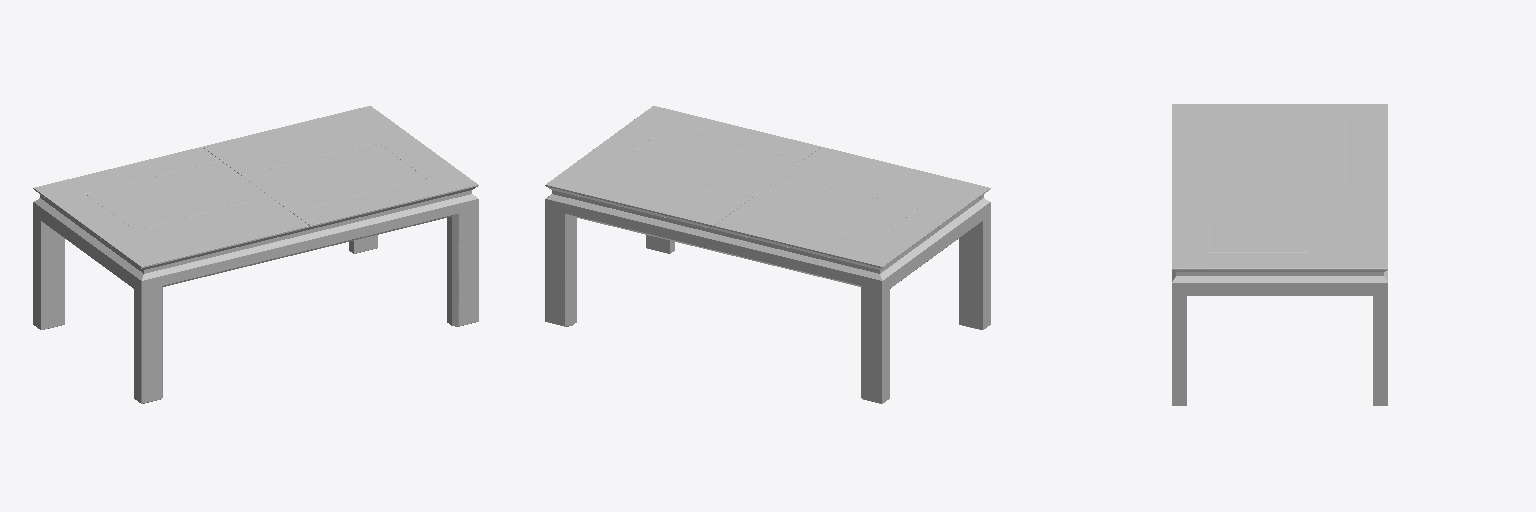
The model's file is Table.obj.
The picture shows the model from 3 angles: view 1: azimuth 30°, elevation 25°; view 2: azimuth 150°, elevation 25°; view 3: azimuth 270°, elevation 25°; orthographic projection.
Parts seen in each view (by area): view 1: Modern_Table:default_1_1, Modern_Table:default_1_2; view 2: Modern_Table:default_1_1, Modern_Table:default_1_2; view 3: Modern_Table:default_1_1, Modern_Table:default_1_2.
Part boxes in pixels (x1,y1,x2,y2): Modern_Table:default_1_1: (33,106,478,403); Modern_Table:default_1_2: (40,143,471,273); Modern_Table:default_1_1: (545,106,990,403); Modern_Table:default_1_2: (552,127,983,273); Modern_Table:default_1_1: (1172,104,1387,405); Modern_Table:default_1_2: (1176,120,1383,275).
Bounding box in the file's own units: 2.09 × 0.8269 × 1.16.